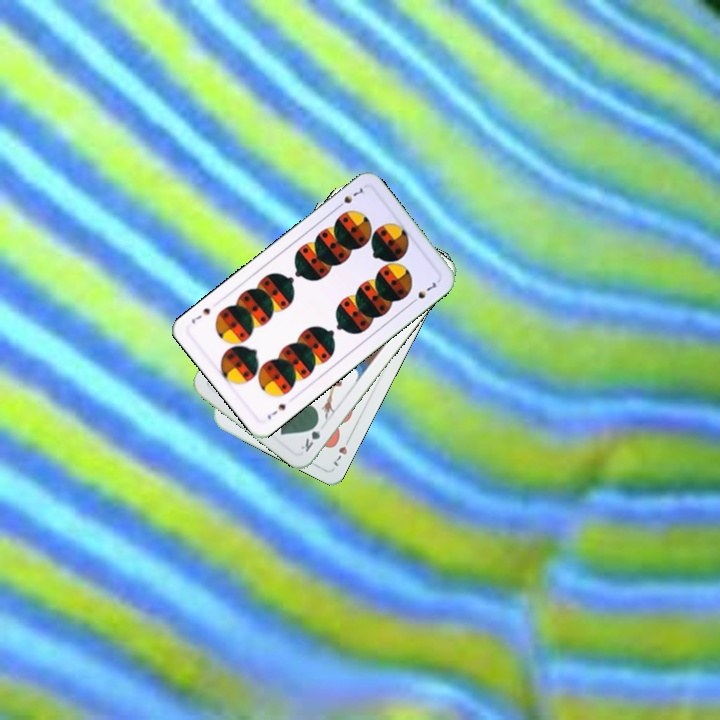GK: (297, 417, 325, 455)
H7: (328, 432, 354, 469)
S7: (332, 183, 368, 212), (263, 400, 288, 422)
